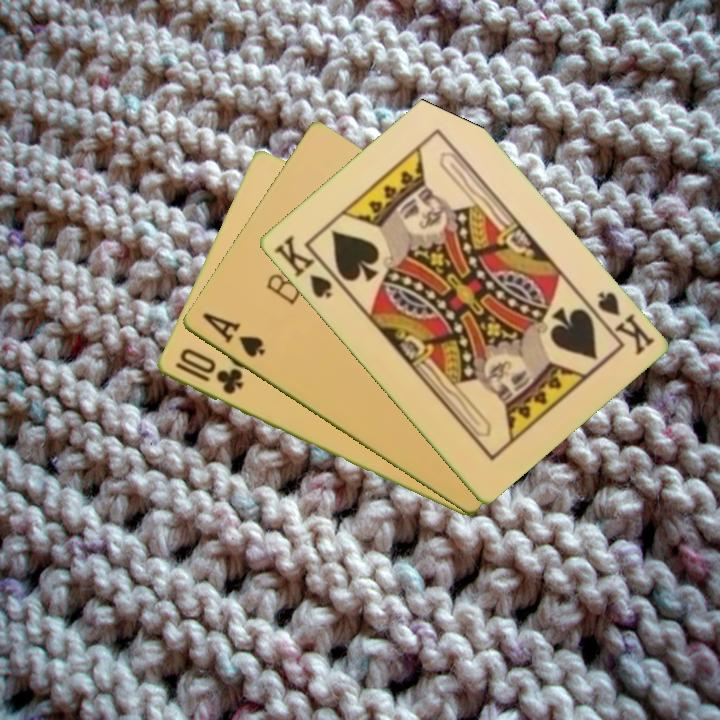10c: (171, 345, 246, 398)
As: (198, 309, 268, 361)
Ks: (582, 288, 657, 359), (270, 231, 344, 302)
